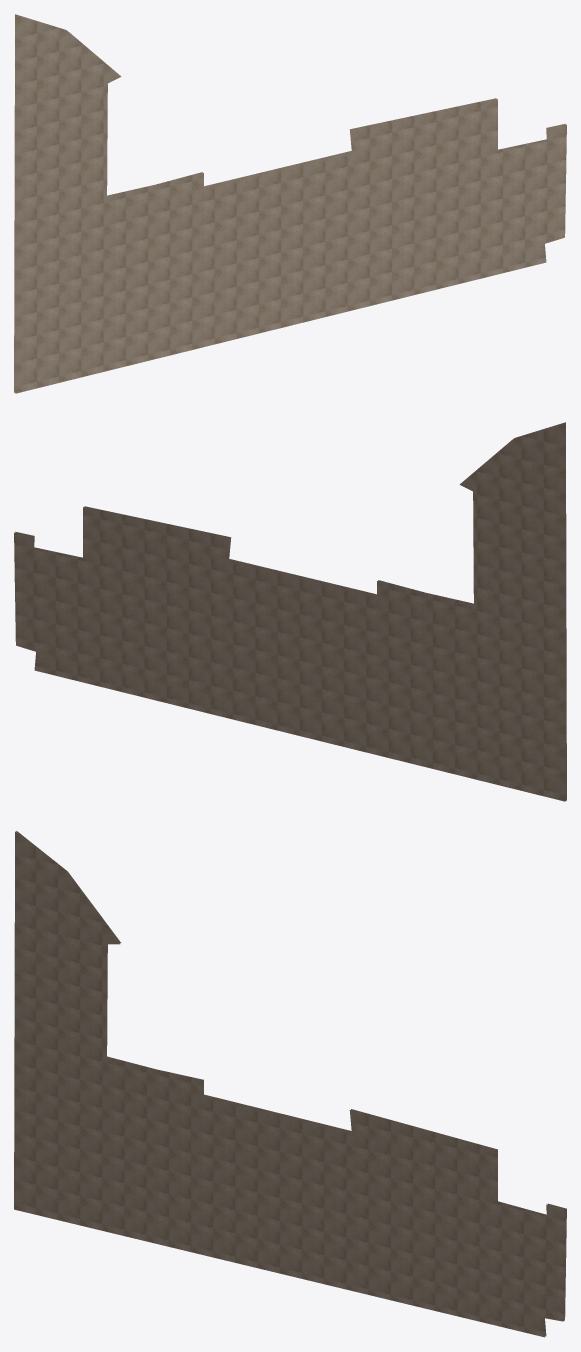
Rendered from floor_5.obj.
3 views of the same model, one above another, from view 1: azimuth 30°, elevation 25°; view 2: azimuth 150°, elevation 25°; view 3: azimuth 330°, elevation 25° (orthographic).
Visible parts, largest first — view 1: floor_5; view 2: floor_5; view 3: floor_5.
Boxes of the visible parts, x1=… form: floor_5: x1=14, y1=14, x2=566, y2=393; floor_5: x1=14, y1=422, x2=566, y2=801; floor_5: x1=14, y1=831, x2=566, y2=1337.
Bounding box in the file's own units: 24.87 × 16.3 × 0.1.
1 material, 1 textured.
